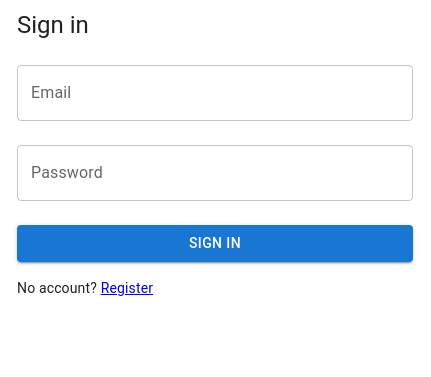
Test: Login › shows the fallback message when the failure is not an Error
Type "user@example.com" into the field labelled "Email". click: (215, 93)
box: top-left (17, 65), bottom-right (413, 121)
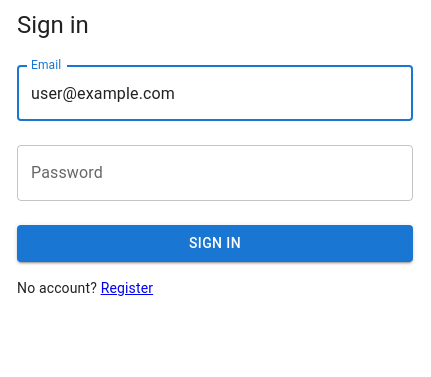
Type "password123" into the password field labelled "Password". click: (215, 173)
box: top-left (17, 145), bottom-right (413, 201)
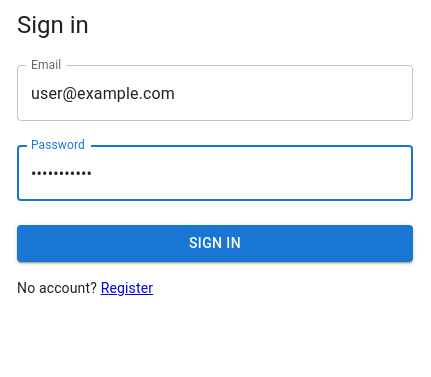
Click the button "Sign in". click: (215, 244)
box: top-left (17, 225), bottom-right (413, 262)
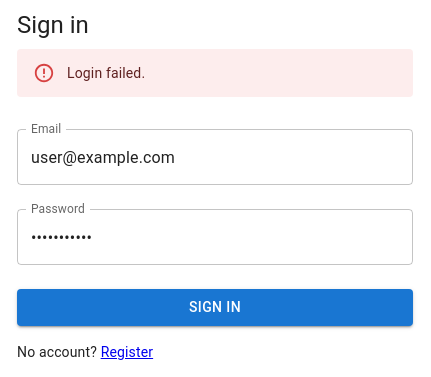
Now the message reads "Login failed.", box top-left (67, 65), bottom-right (145, 81)
